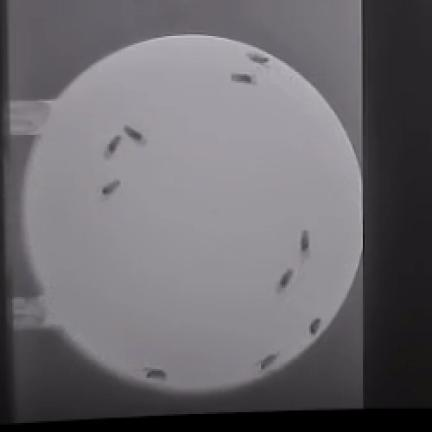fly: (258, 353, 279, 370), (277, 269, 293, 291), (123, 126, 145, 142), (106, 135, 120, 158), (102, 180, 120, 196), (248, 53, 269, 64), (144, 368, 165, 379), (232, 74, 255, 84), (301, 231, 311, 253), (310, 319, 321, 334)
